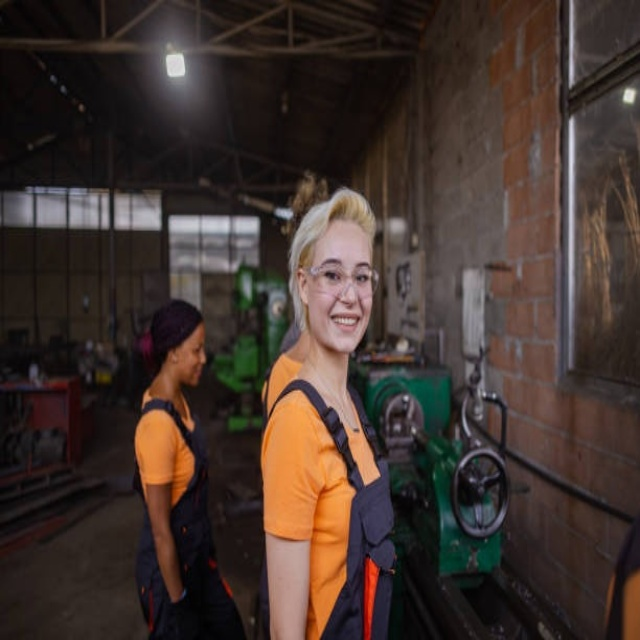Gafas: (304, 263, 379, 301)
Sin_gafas: (184, 340, 206, 359)
Sin_mascara: (326, 306, 362, 347), (184, 365, 203, 387)
